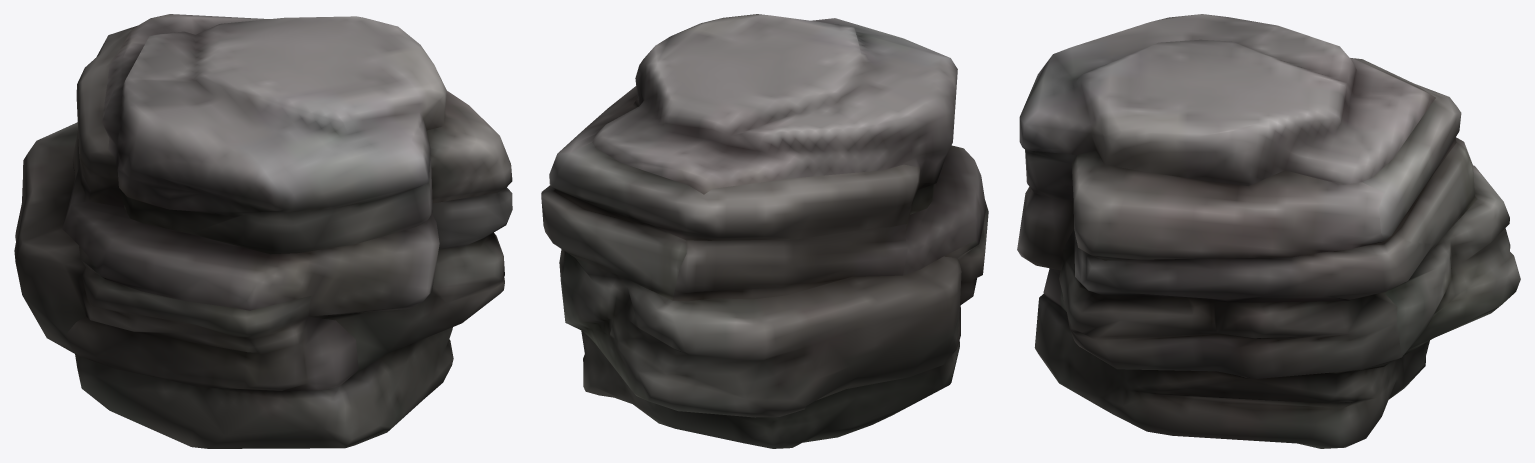
The model's file is stone_e.glb.
3 views of the same model, side by side, from view 1: azimuth 30°, elevation 25°; view 2: azimuth 150°, elevation 25°; view 3: azimuth 270°, elevation 25° (orthographic). The views are drawn at different scales.
Visible parts, largest first — view 1: Mid_2_MID_0; view 2: Mid_2_MID_0; view 3: Mid_2_MID_0.
Part boxes in pixels (<box>): Mid_2_MID_0: <box>14,14,512,448</box>; Mid_2_MID_0: <box>541,14,988,448</box>; Mid_2_MID_0: <box>1017,14,1520,448</box>.
Bounding box in the file's own units: 3.76 × 2.91 × 4.21.
1 material, 1 textured.
